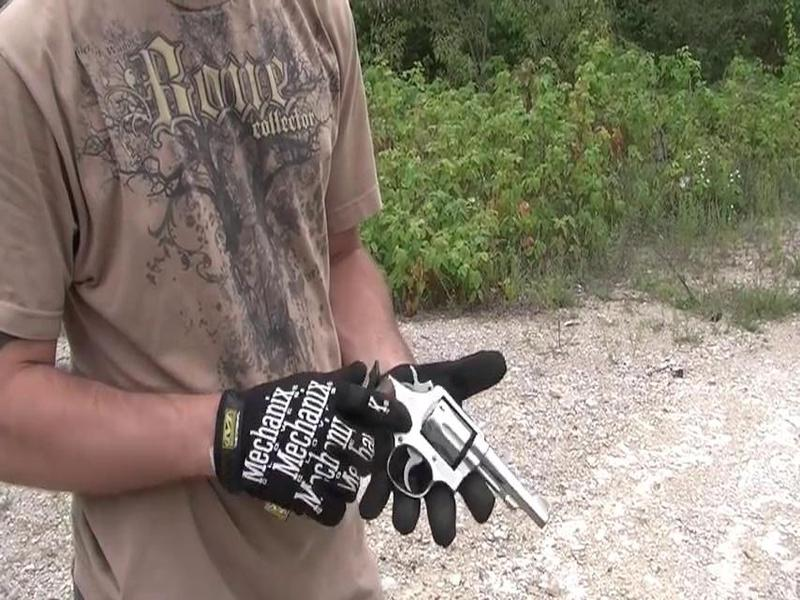Revolver: (364, 375, 561, 555)
